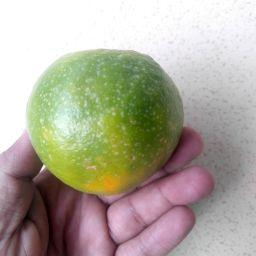Unripe: (25, 49, 187, 191)
